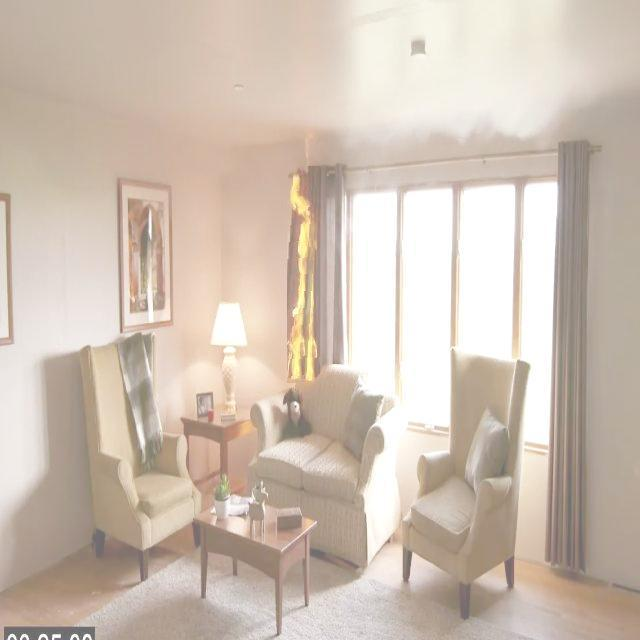fire: (307, 86, 566, 147)
smoke: (287, 166, 319, 384)
